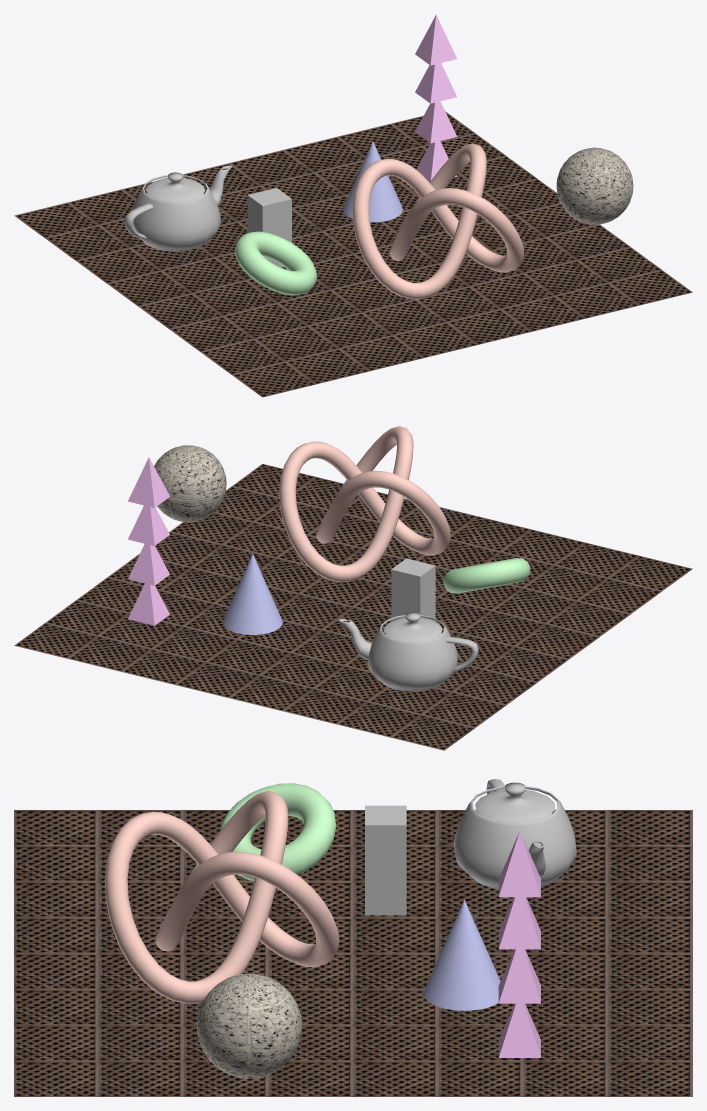
The picture shows the model from 3 angles, top to bottom: view 1: azimuth 30°, elevation 25°; view 2: azimuth 150°, elevation 25°; view 3: azimuth 270°, elevation 25°; orthographic projection. The views are drawn at different scales.
Parts seen in each view (by area): view 1: Plane001, Torus Knot001, Teapot001, Sphere001, Torus001, Box001, Cone001, Pyramid004, Pyramid002, Pyramid003, Pyramid001; view 2: Plane001, Torus Knot001, Teapot001, Sphere001, Cone001, Box001, Torus001, Pyramid004, Pyramid001, Pyramid002, Pyramid003; view 3: Plane001, Torus Knot001, Teapot001, Sphere001, Cone001, Box001, Torus001, Pyramid004, Pyramid002, Pyramid003, Pyramid001.
Part boxes in pixels (bbox=[...]): Plane001: bbox=[14, 111, 692, 397]; Torus Knot001: bbox=[352, 143, 523, 299]; Teapot001: bbox=[124, 165, 231, 251]; Sphere001: bbox=[556, 147, 633, 224]; Torus001: bbox=[235, 231, 316, 295]; Box001: bbox=[247, 188, 291, 267]; Cone001: bbox=[343, 141, 402, 222]; Pyramid004: bbox=[415, 14, 456, 65]; Pyramid002: bbox=[415, 101, 457, 143]; Pyramid003: bbox=[415, 63, 456, 103]; Pyramid001: bbox=[416, 141, 457, 182]; Plane001: bbox=[14, 464, 692, 750]; Torus Knot001: bbox=[279, 426, 450, 581]; Teapot001: bbox=[338, 612, 478, 691]; Sphere001: bbox=[154, 445, 226, 522]; Cone001: bbox=[222, 553, 282, 634]; Box001: bbox=[391, 558, 435, 621]; Torus001: bbox=[443, 558, 530, 593]; Pyramid004: bbox=[128, 457, 169, 507]; Pyramid001: bbox=[128, 583, 169, 625]; Pyramid002: bbox=[128, 544, 169, 585]; Pyramid003: bbox=[128, 505, 169, 545]; Plane001: bbox=[14, 810, 692, 1096]; Torus Knot001: bbox=[104, 791, 339, 1003]; Teapot001: bbox=[453, 779, 576, 889]; Sphere001: bbox=[196, 973, 301, 1078]; Cone001: bbox=[423, 899, 500, 1010]; Box001: bbox=[365, 805, 406, 915]; Torus001: bbox=[219, 783, 335, 880]; Pyramid004: bbox=[498, 831, 540, 897]; Pyramid002: bbox=[498, 949, 540, 1003]; Pyramid003: bbox=[498, 897, 540, 949]; Pyramid001: bbox=[498, 1003, 540, 1057].
Size of the model in its own units: 6.83 by 2.31 by 6.5.
8 materials, 2 textured.
